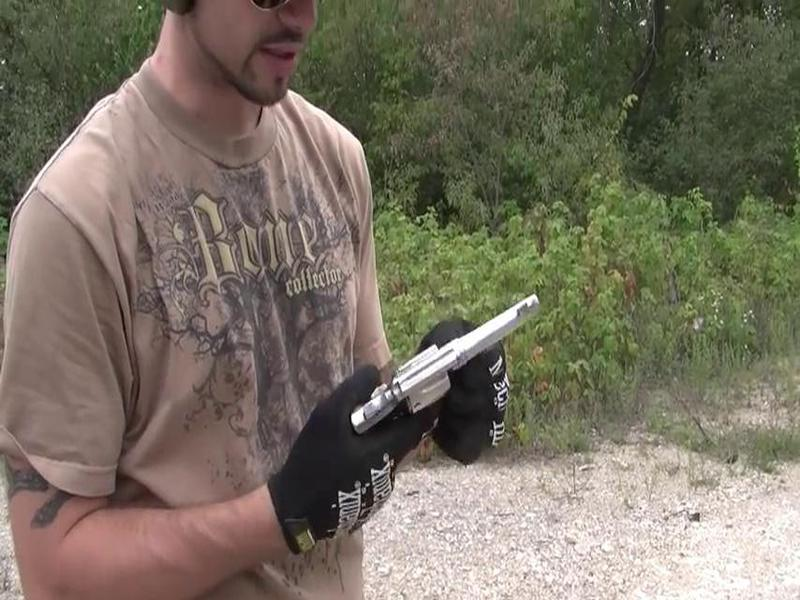Revolver: (357, 286, 540, 434)
